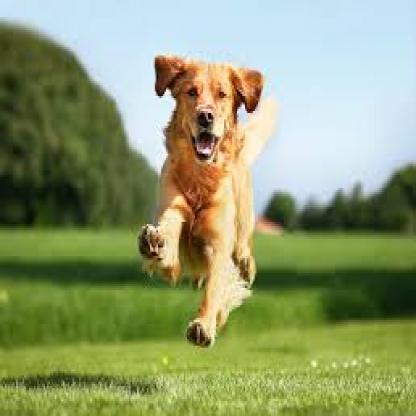dog: (131, 40, 280, 362)
